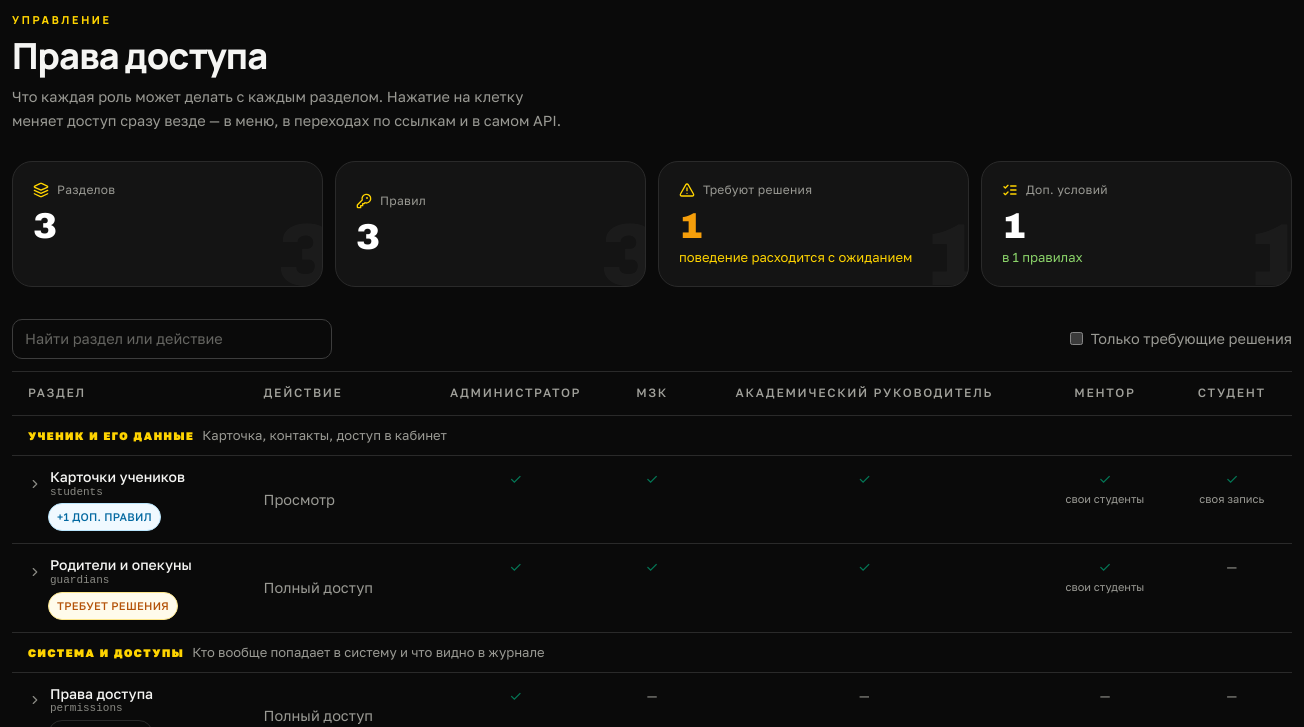
Scenario: матрица прав › раскрывает условие целиком, а не только его количество
The width and height of the screenshot is (1304, 727).
Expected: the text "students" is shown, 50,486 -> 103,498
# Пометка «+N» сама по себе бесполезна: важно, что за ней стоит.
Click the text "students" at (652, 500), box 12,456 -> 1292,544
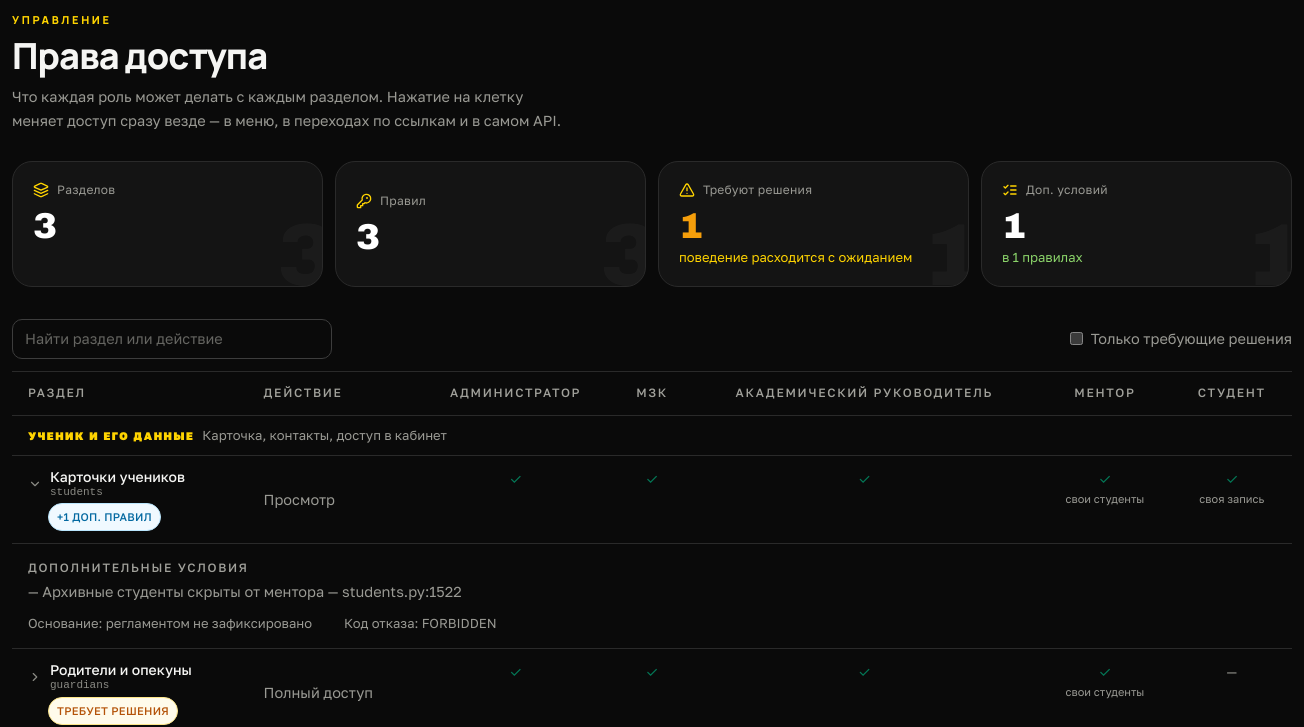
Result: the list item "— Архивные студенты скрыты от ментора — students.py:1522" is shown at 28,583 -> 462,600
Result: the text "Основание: регламентом не зафиксировано" is shown at 28,614 -> 312,632
